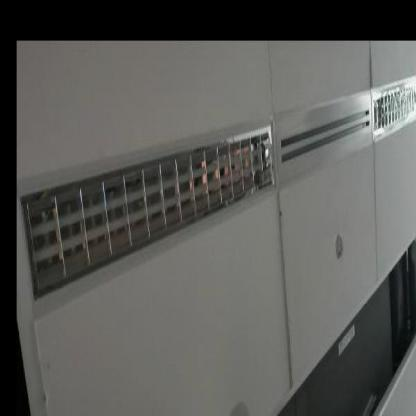light_off: (17, 115, 279, 307)
